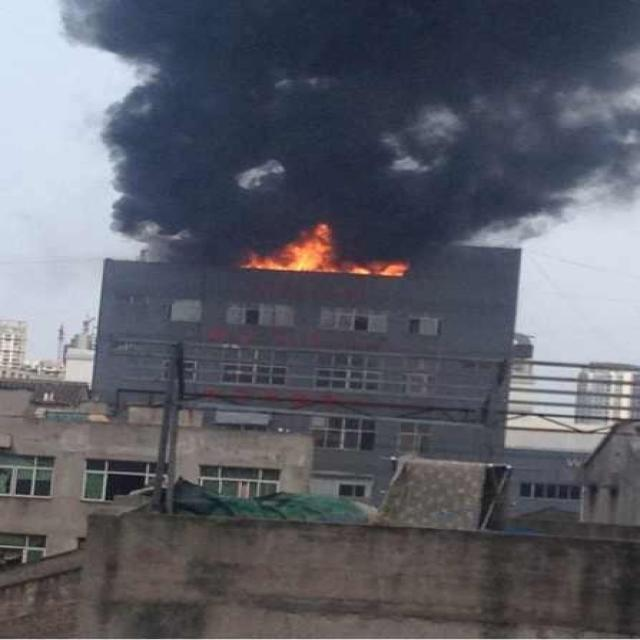Fire: (240, 222, 410, 280)
Smoke: (56, 2, 640, 268)
